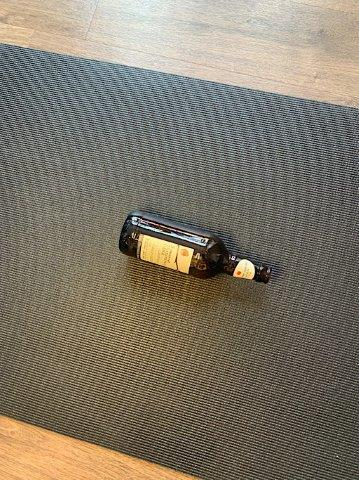botolkaca: (120, 211, 275, 286)
